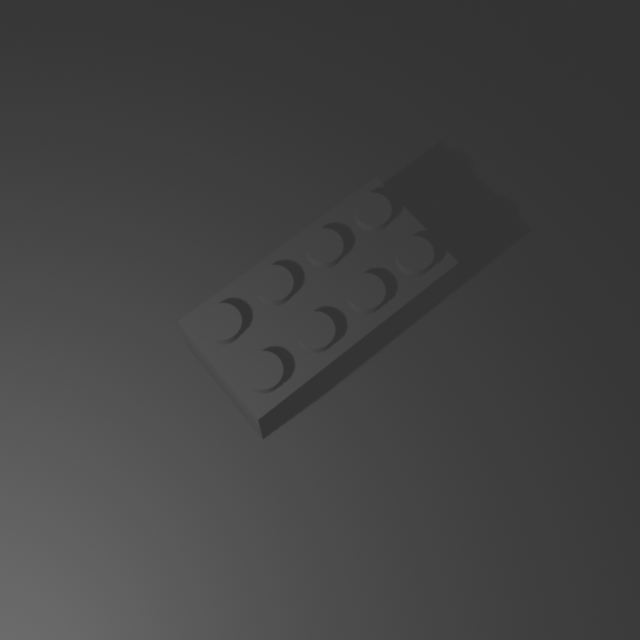lego_2x4: (176, 170, 461, 439)
